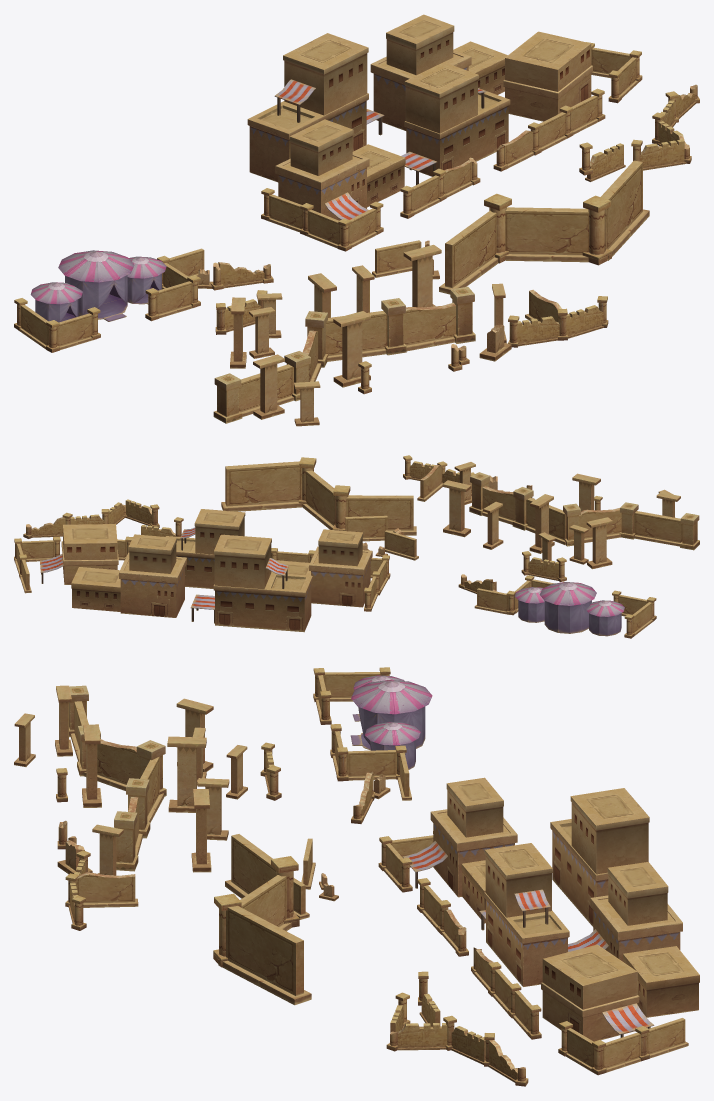
Rendered from qiangmian_01.fbx.
The picture shows the model from 3 angles, top to bottom: view 1: azimuth 30°, elevation 25°; view 2: azimuth 150°, elevation 25°; view 3: azimuth 270°, elevation 25°; orthographic projection. The views are drawn at different scales.
Parts seen in each view (by area): view 1: qiangmian_01; view 2: qiangmian_01; view 3: qiangmian_01.
Part boxes in pixels (<box>): qiangmian_01: <box>14,14,699,426</box>; qiangmian_01: <box>14,455,699,638</box>; qiangmian_01: <box>14,667,699,1086</box>.
Size of the model in its own units: 11647 by 1615 by 8661.
Materials: 1 (1 with a texture image).
